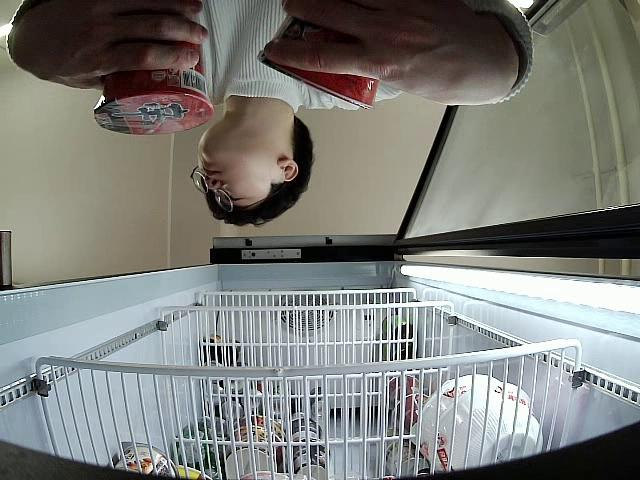00_hand: (262, 0, 519, 106), (8, 0, 211, 87)
02_shinRamen_S: (255, 8, 379, 111), (94, 38, 215, 137)
